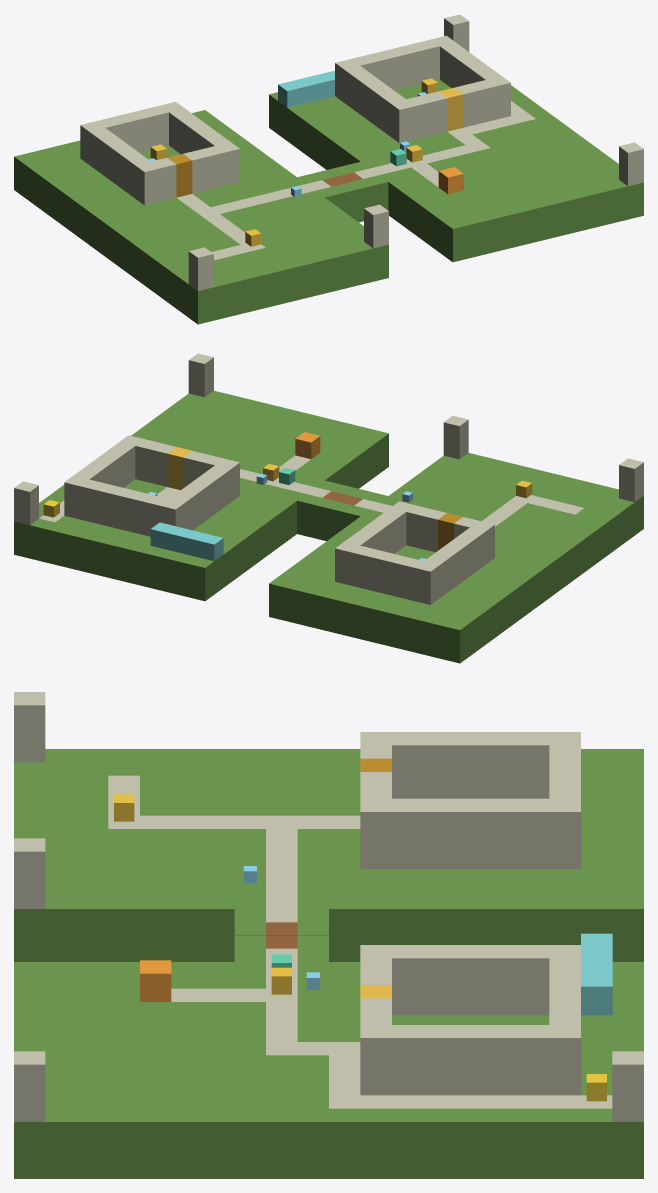
The model's file is course-1.obj.
The picture shows the model from 3 angles, top to bottom: view 1: azimuth 30°, elevation 25°; view 2: azimuth 150°, elevation 25°; view 3: azimuth 270°, elevation 25°; orthographic projection. The views are drawn at different scales.
Bounding box in the file's own units: 11 × 1.57 × 7.86.
1 material, 1 textured.
